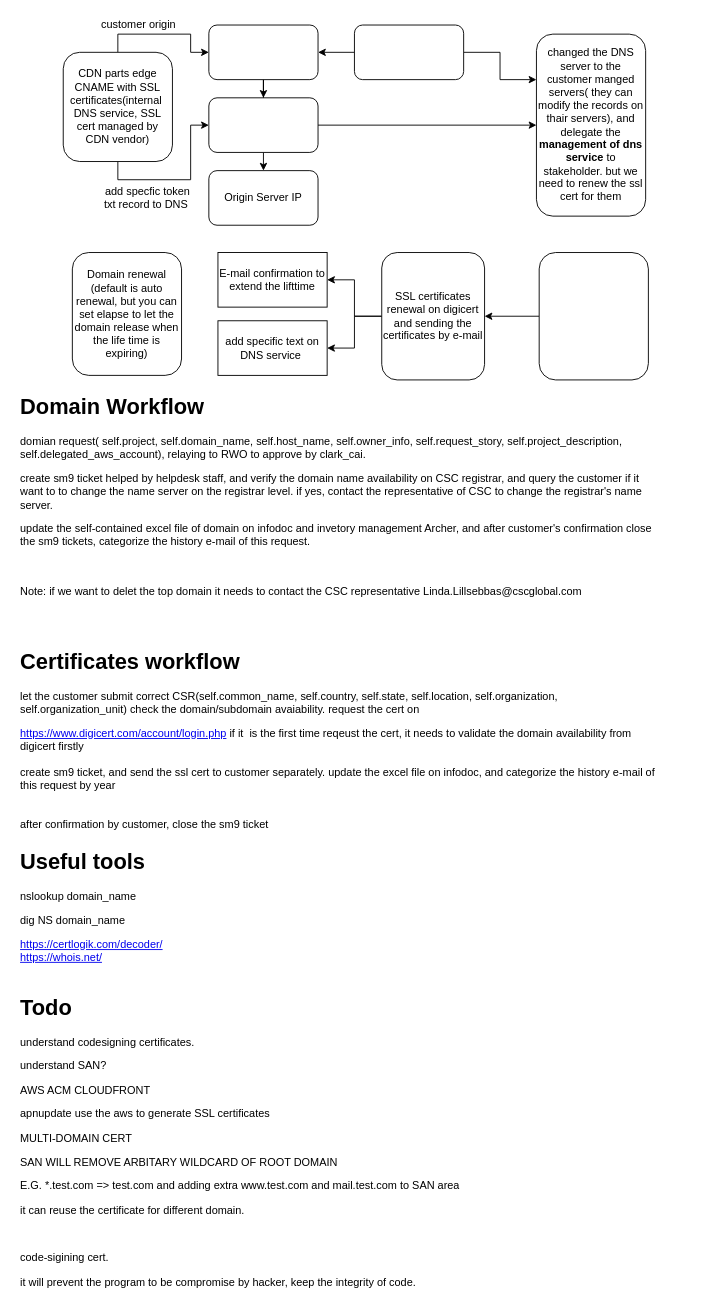
Image size: 713x1314. Some labels were removed from this diagram. The shapes that lost their labels are listed below. From the top down, each one's box as (x1, y1, x2, y2) in pixels, then its label:
(208, 24, 318, 80): registrar(e.g. CSC or AMAZON)
(354, 24, 464, 80): SSL certificates from Digicert(merely origin domain's certificates)
(208, 97, 318, 152): DNS Provider(e.g. DNS-TOOL from CSC, Route53 from AWS)
(538, 252, 648, 380): using private key to generate CSR
